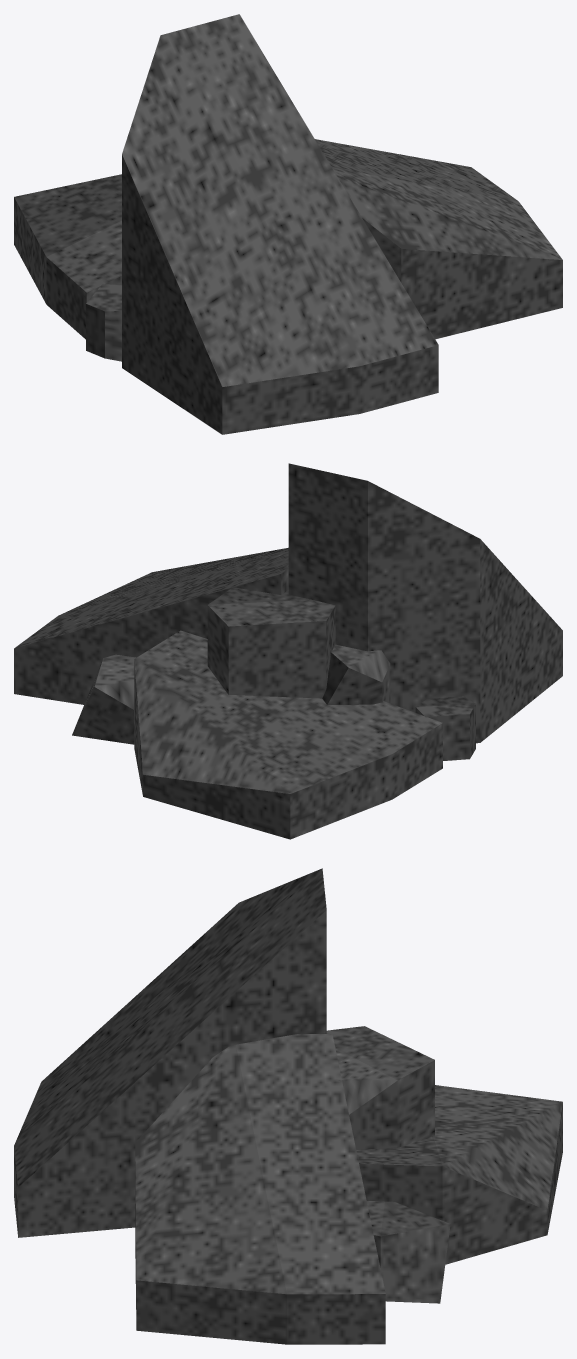
3 renders of one model, top to bottom at view 1: azimuth 30°, elevation 25°; view 2: azimuth 150°, elevation 25°; view 3: azimuth 270°, elevation 25°, orthographic. The views are drawn at different scales.
Parts seen in each view (by area): view 1: Rock Type5 02 mesh; view 2: Rock Type5 02 mesh; view 3: Rock Type5 02 mesh.
Part boxes in pixels (<box>): Rock Type5 02 mesh: <box>14,14,562,434</box>; Rock Type5 02 mesh: <box>14,463,562,839</box>; Rock Type5 02 mesh: <box>14,868,562,1344</box>.
Size of the model in its own units: 226 by 144 by 235.
